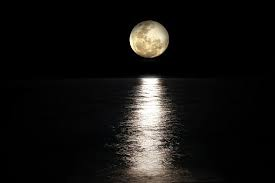moon: (118, 16, 182, 62)
